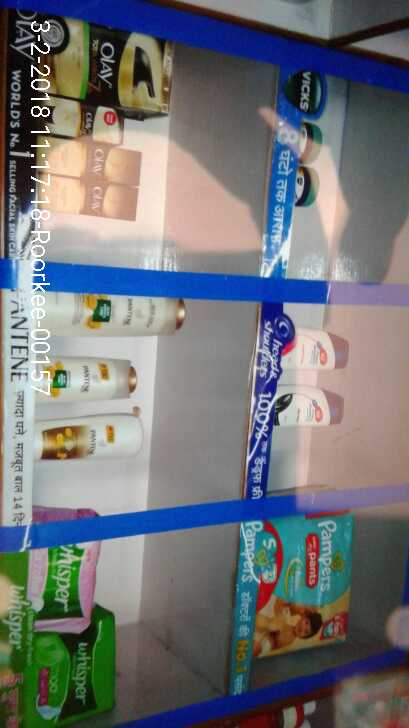vicks: (293, 119, 327, 216)
